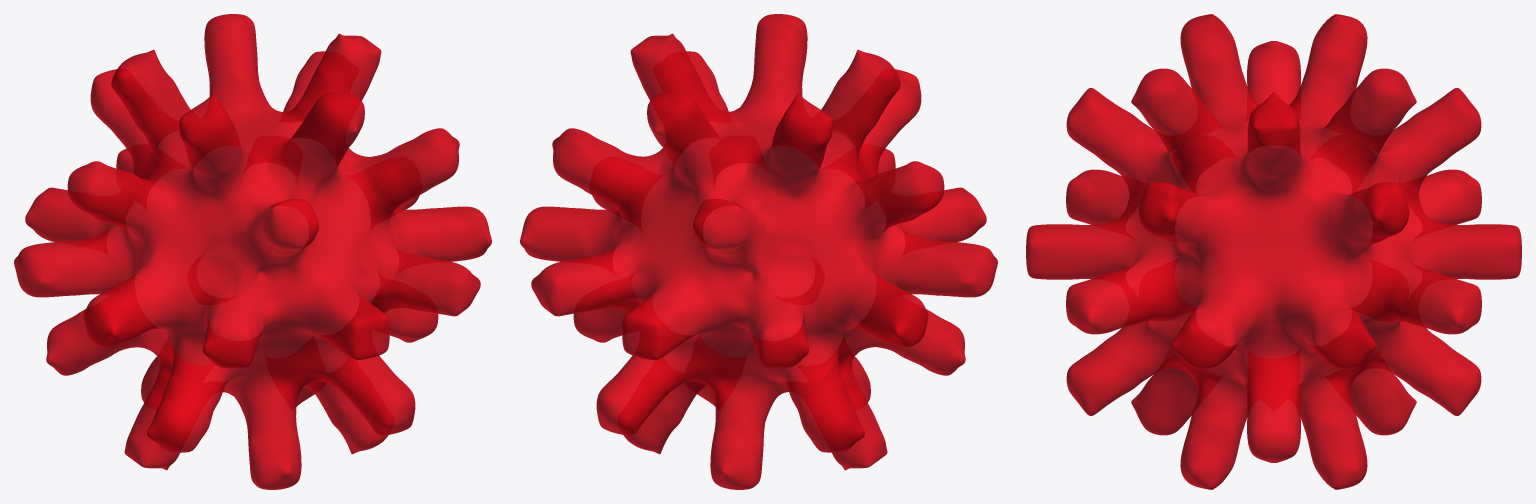
Rendered from red virus.fbx.
3 renders of one model, left to right at view 1: azimuth 30°, elevation 25°; view 2: azimuth 150°, elevation 25°; view 3: azimuth 270°, elevation 25°, orthographic. The views are drawn at different scales.
Parts seen in each view (by area): view 1: Icosphere.002; view 2: Icosphere.002; view 3: Icosphere.002.
Part boxes in pixels (bbox=[...]): Icosphere.002: bbox=[14, 14, 491, 489]; Icosphere.002: bbox=[520, 14, 997, 489]; Icosphere.002: bbox=[1026, 14, 1521, 489].
Bounding box in the file's own units: 420 × 401 × 443.
